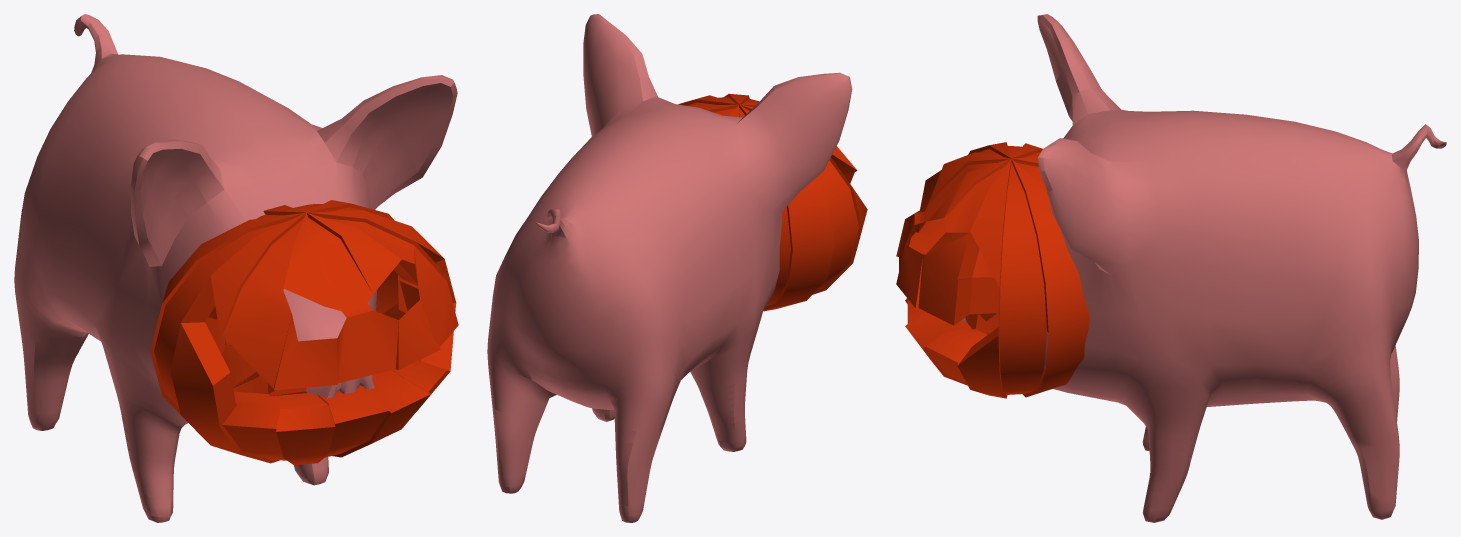
The model's file is cerditodiademuertos.fbx.
3 renders of one model, left to right at view 1: azimuth 30°, elevation 25°; view 2: azimuth 150°, elevation 25°; view 3: azimuth 270°, elevation 25°, orthographic. The views are drawn at different scales.
Visible parts, largest first — view 1: Cerdodiademuertos; view 2: Cerdodiademuertos; view 3: Cerdodiademuertos.
Boxes of the visible parts, x1,y1,x2,y2 form: Cerdodiademuertos: (14, 14, 458, 522); Cerdodiademuertos: (487, 14, 867, 522); Cerdodiademuertos: (896, 14, 1446, 522).
Size of the model in its own units: 73.42 by 93.87 by 116.
